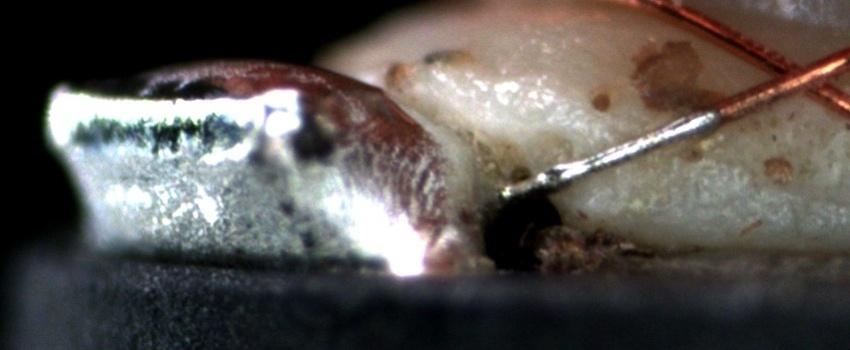CL: (748, 44, 843, 106)
TS: (499, 108, 721, 203)
